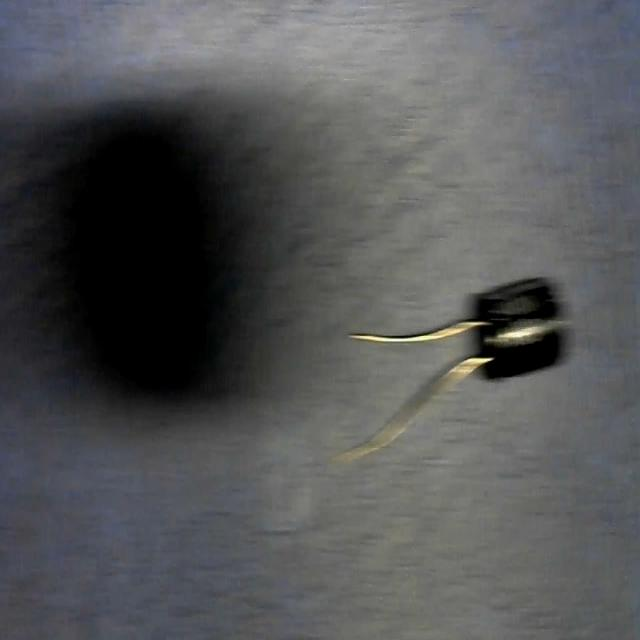capacitor: (340, 277, 569, 463)
